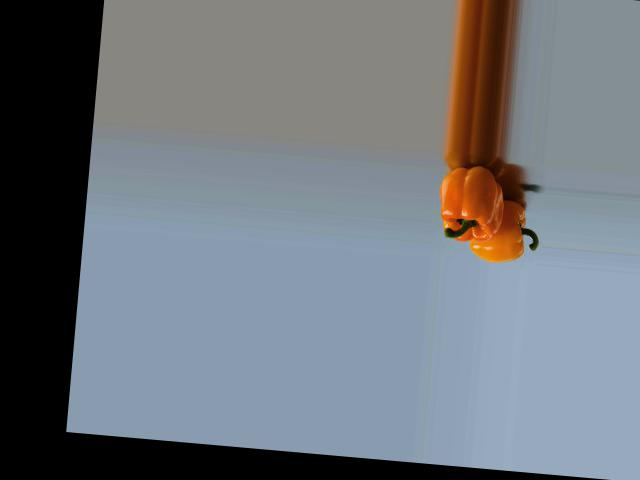bell_pepper: (465, 185, 542, 266)
